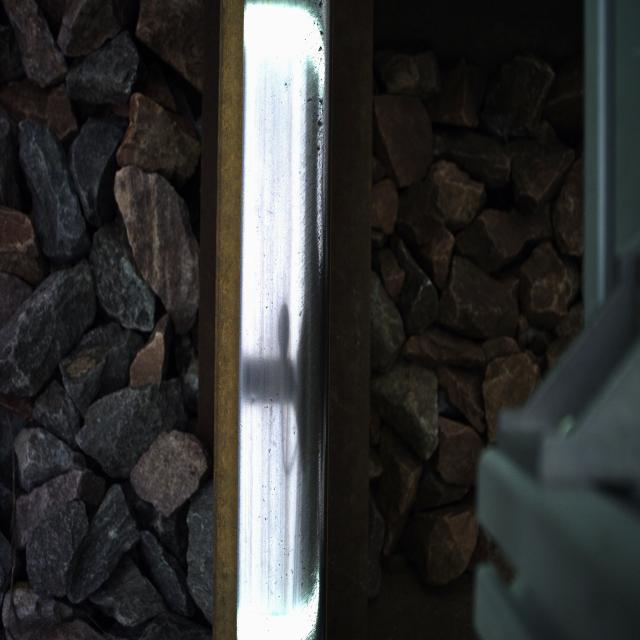normal: (248, 35, 326, 601)
